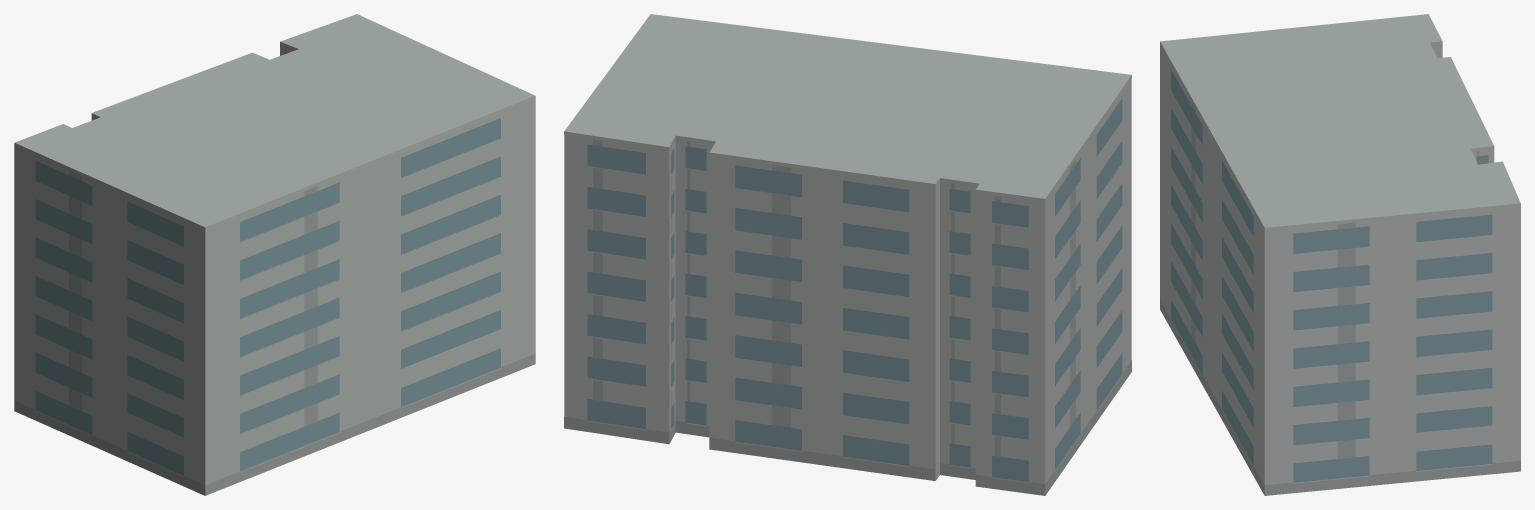
File: survey-upis-32810777.glb
The picture shows the model from 3 angles, left to right: view 1: azimuth 30°, elevation 25°; view 2: azimuth 150°, elevation 25°; view 3: azimuth 270°, elevation 25°; orthographic projection. The views are drawn at different scales.
Parts seen in each view (by area): view 1: survey-upis-32810777.tmp; view 2: survey-upis-32810777.tmp; view 3: survey-upis-32810777.tmp.
Boxes of the visible parts, left/top/right/bottom form: survey-upis-32810777.tmp: left=14, top=14, right=535, bottom=495; survey-upis-32810777.tmp: left=564, top=14, right=1131, bottom=495; survey-upis-32810777.tmp: left=1160, top=14, right=1520, bottom=495.
Bounding box in the file's own units: 32.89 × 19.22 × 23.46.
